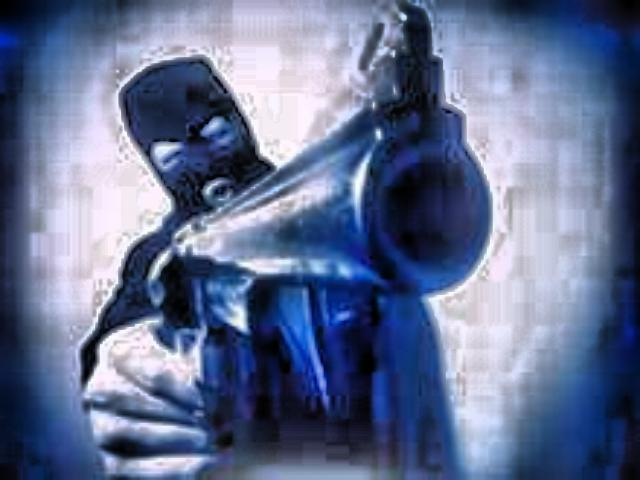pistol: (143, 0, 495, 456)
